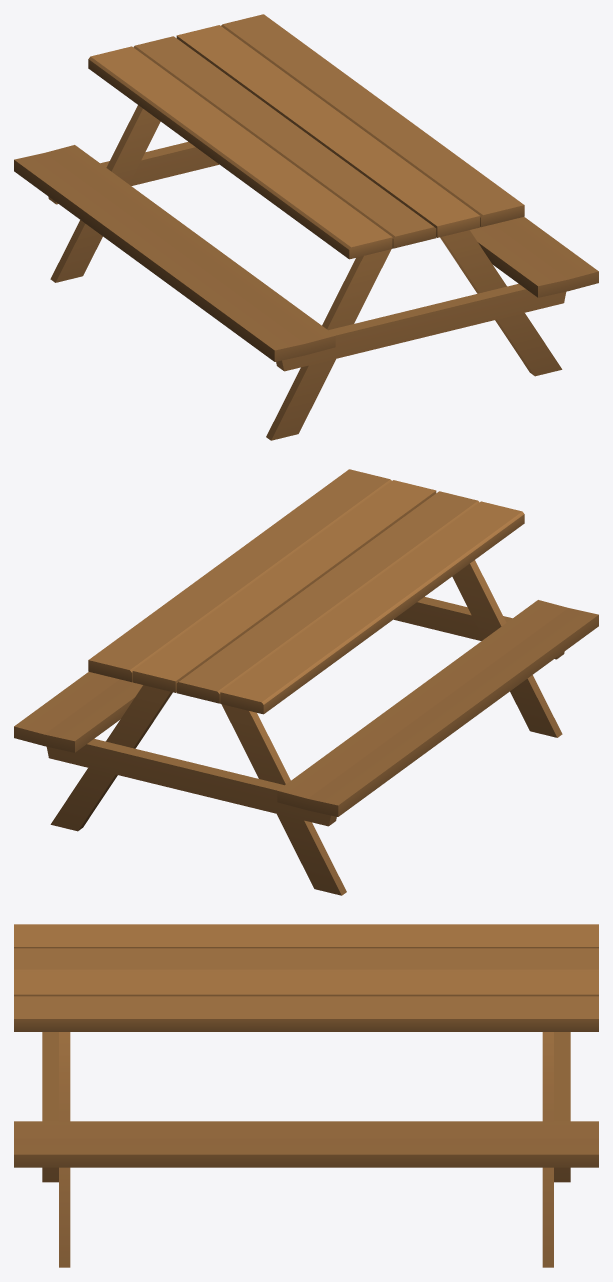
The model's file is Prop_Wooden_Table_01.obj.
3 renders of one model, top to bottom at view 1: azimuth 30°, elevation 25°; view 2: azimuth 150°, elevation 25°; view 3: azimuth 270°, elevation 25°, orthographic. The views are drawn at different scales.
Parts seen in each view (by area): view 1: Prop_Wooden_Table_01; view 2: Prop_Wooden_Table_01; view 3: Prop_Wooden_Table_01.
Boxes of the visible parts, <box> form: Prop_Wooden_Table_01: <box>14,14,598,440</box>; Prop_Wooden_Table_01: <box>14,469,598,895</box>; Prop_Wooden_Table_01: <box>14,924,598,1267</box>.
Bounding box in the file's own units: 1.29 × 0.7366 × 1.8.
1 material, 1 textured.
